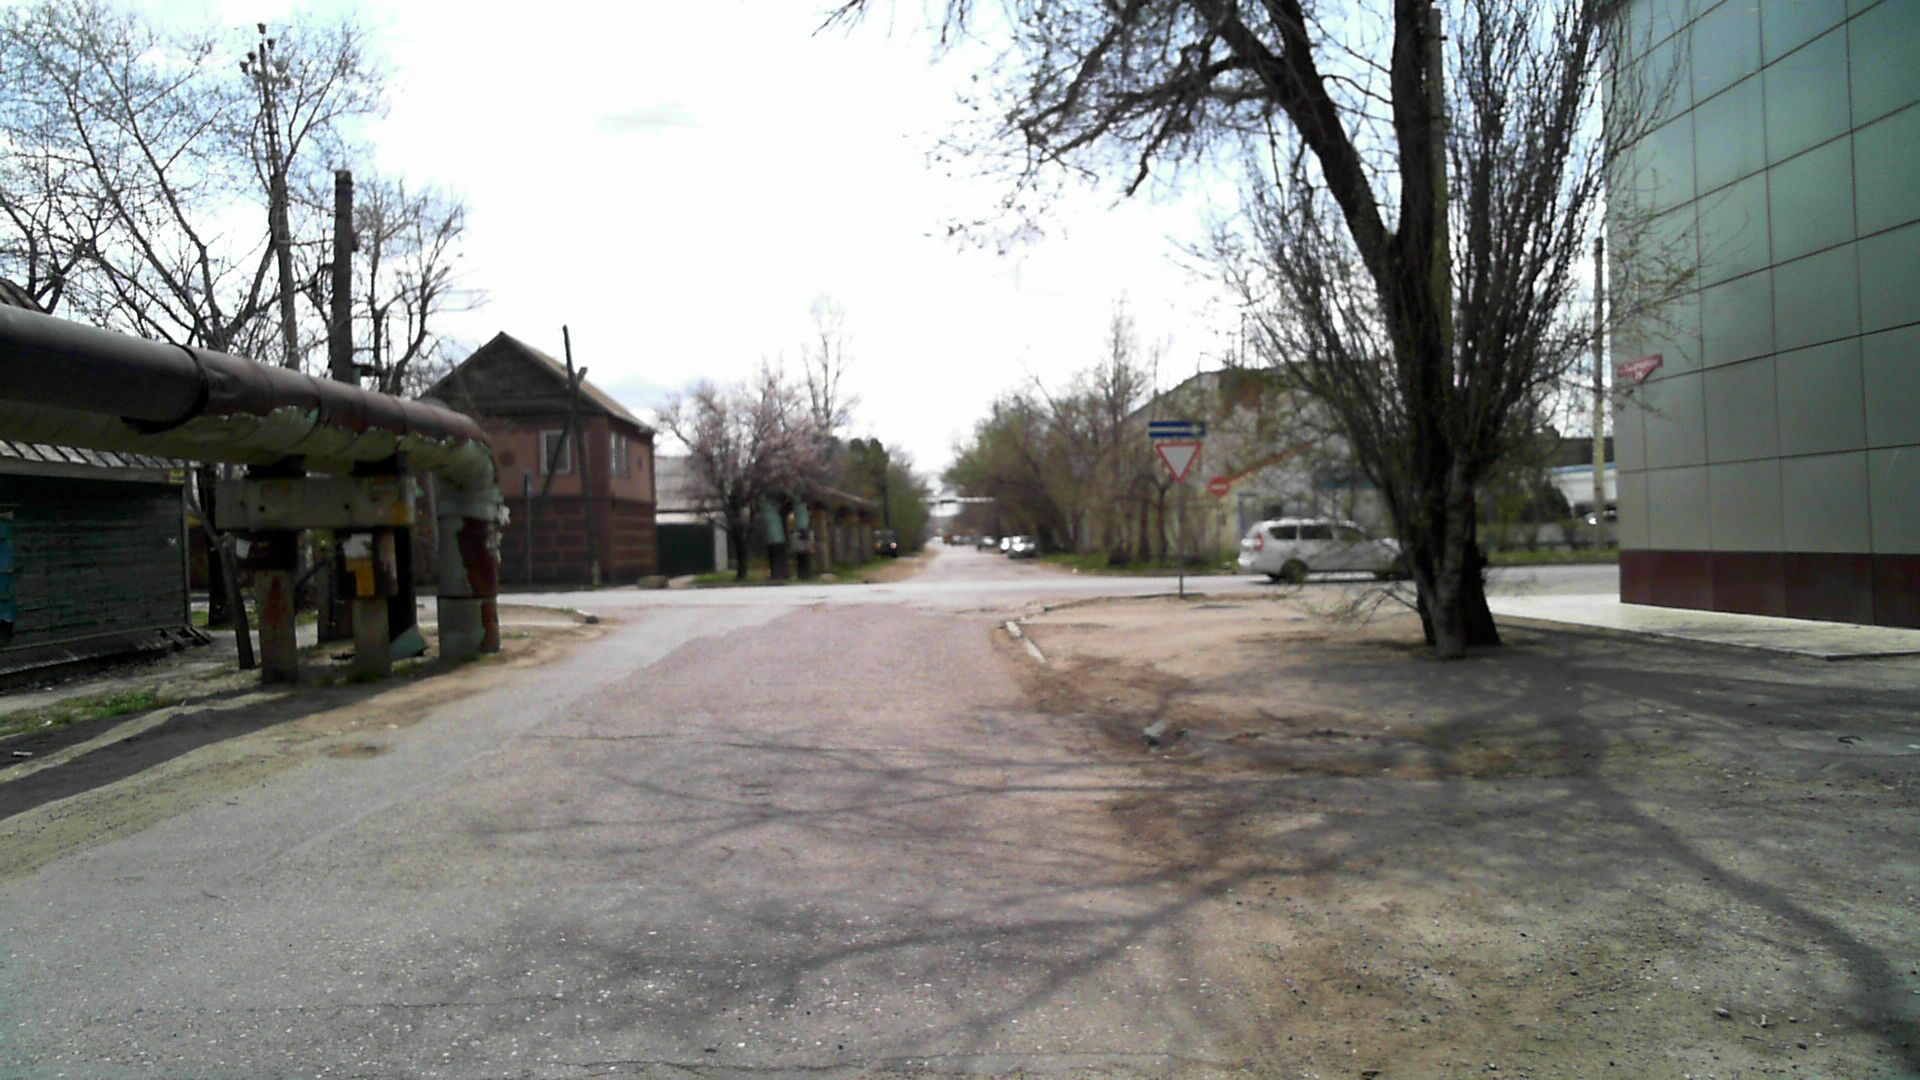One-Way Traffic: (1149, 421, 1207, 439)
